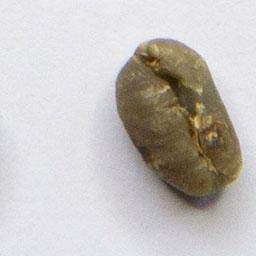peaberry: (112, 35, 245, 202)
